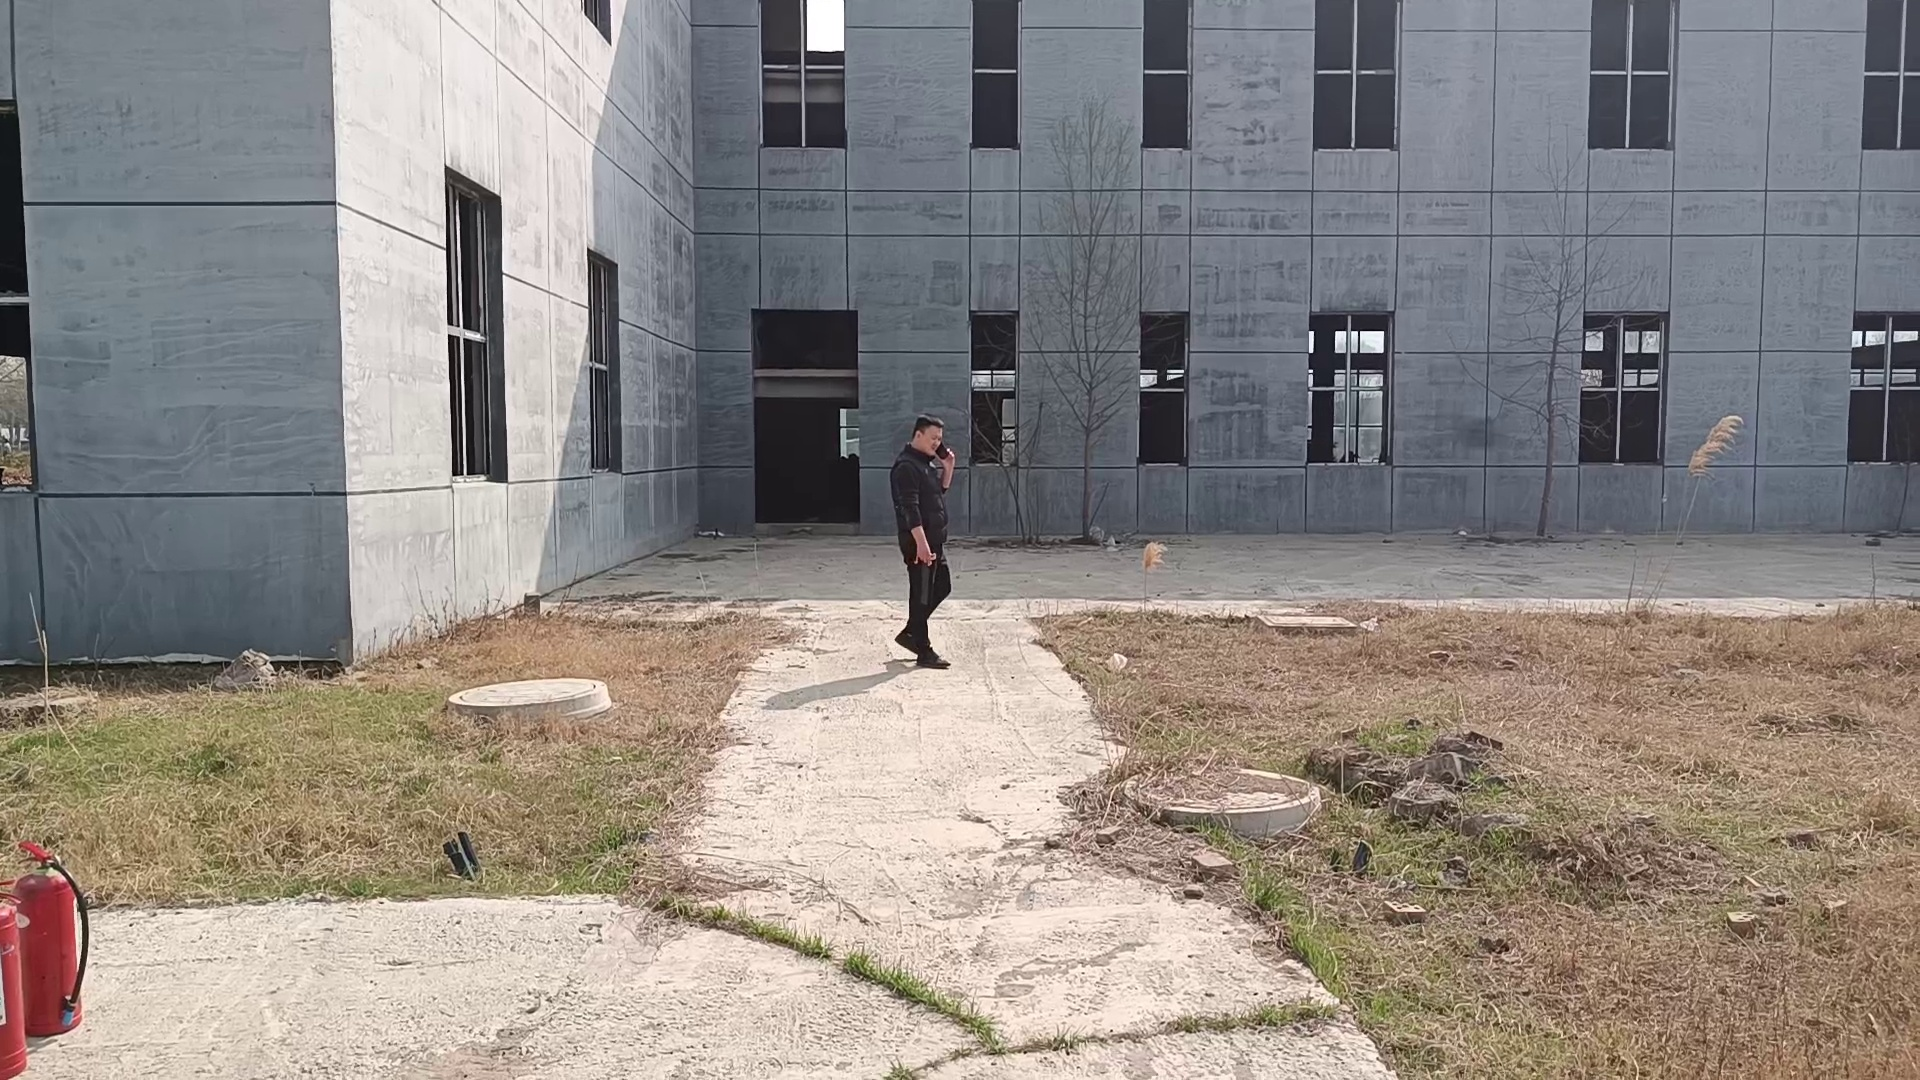phone: (895, 409, 953, 465)
